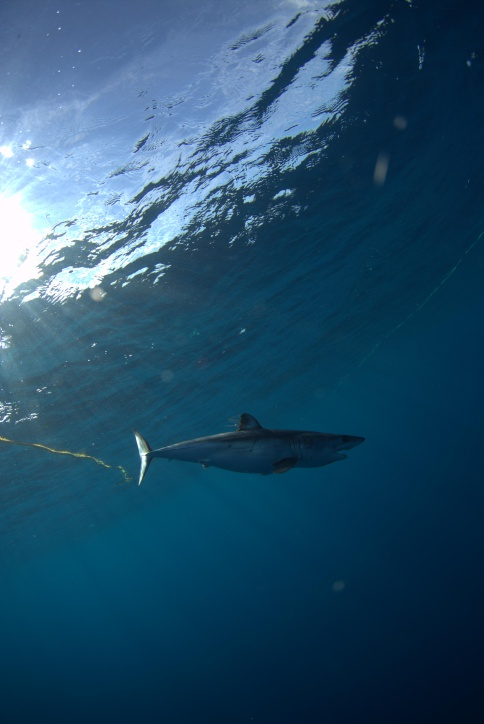Mako: (98, 405, 384, 500)
